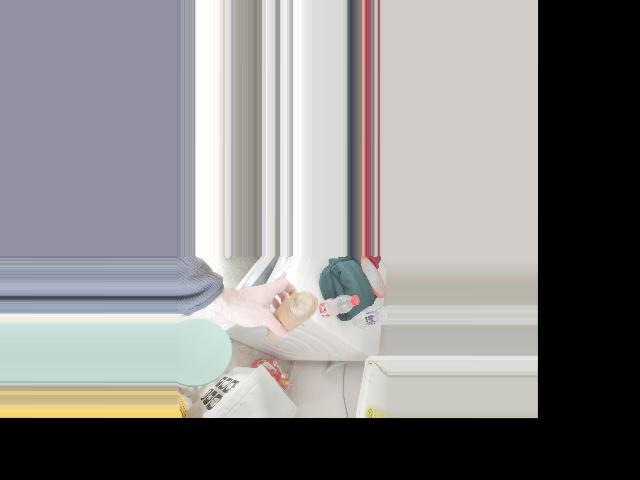sweet_potato: (267, 295, 318, 340)
